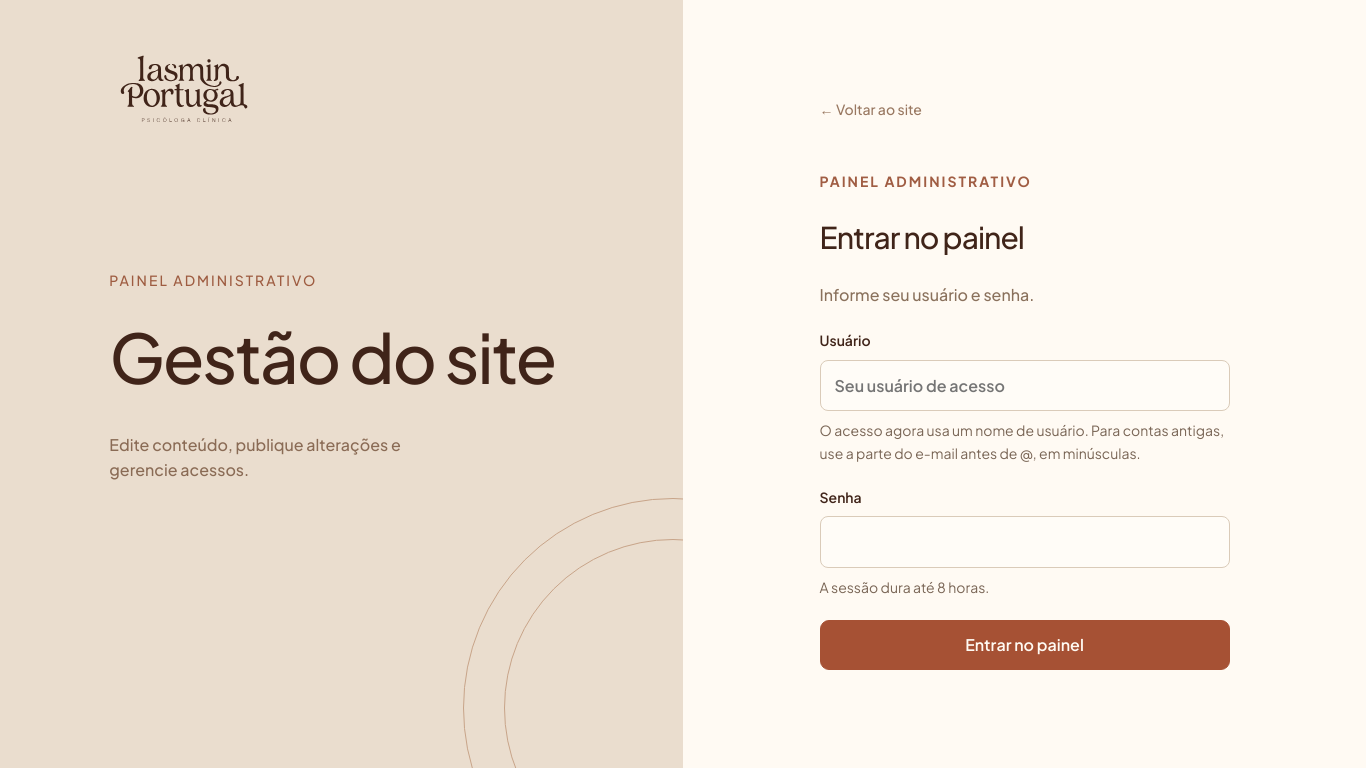
Test: restores the form and entered username after authentication fails
This screenshot has width=1366, height=768.
Type "admin" into the field labelled "Usuário" at (1024, 385), box [820,360,1230,411]
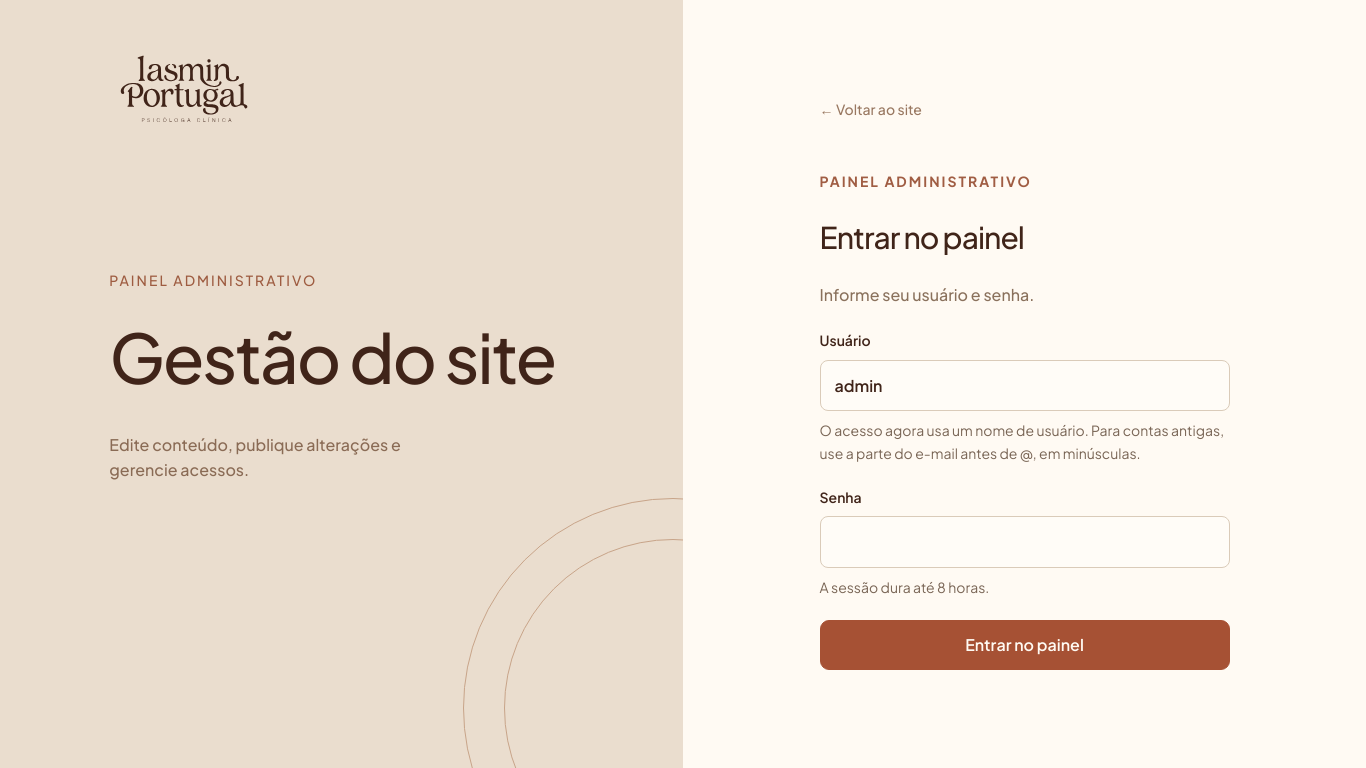
Type "password-test" into the password field labelled "Senha" at (1024, 542), box [820,516,1230,568]
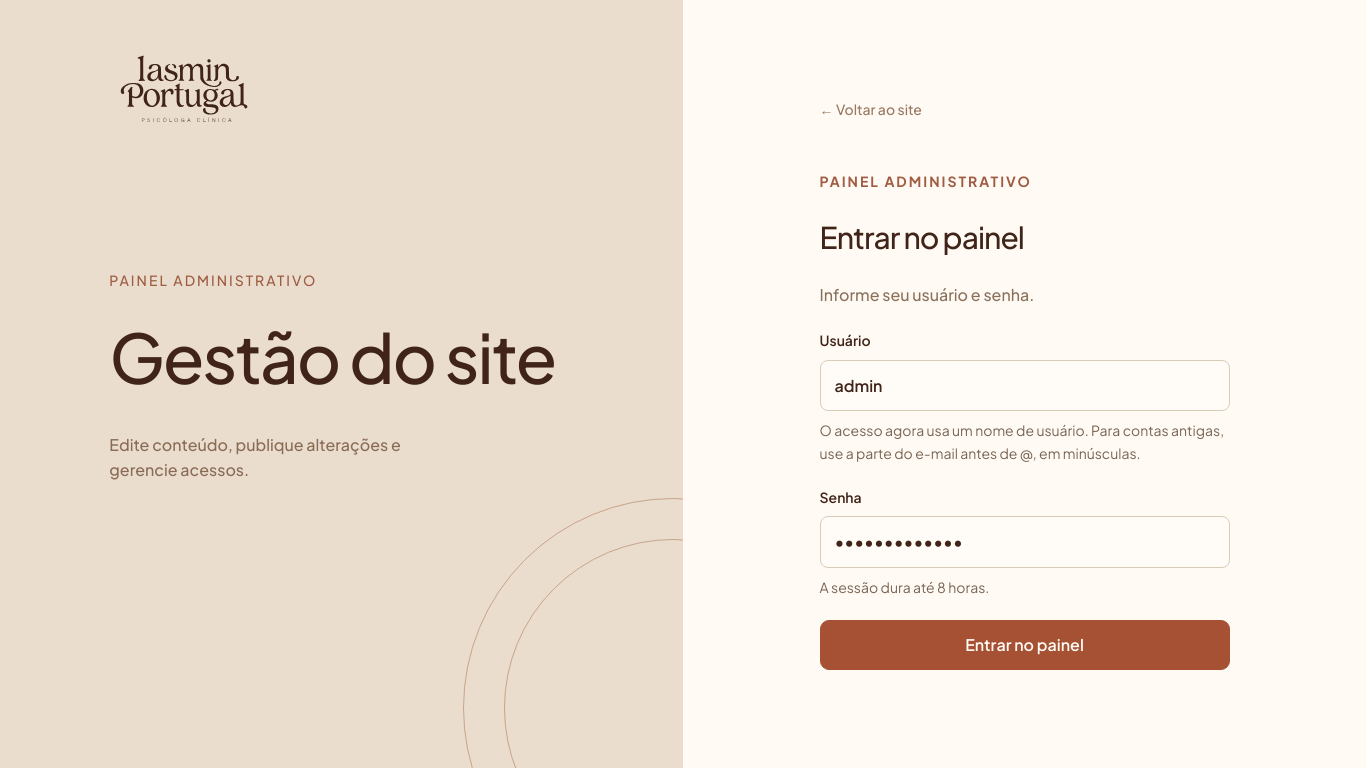
Submit the form named "Entrar no painel", box [820,329,1230,670]
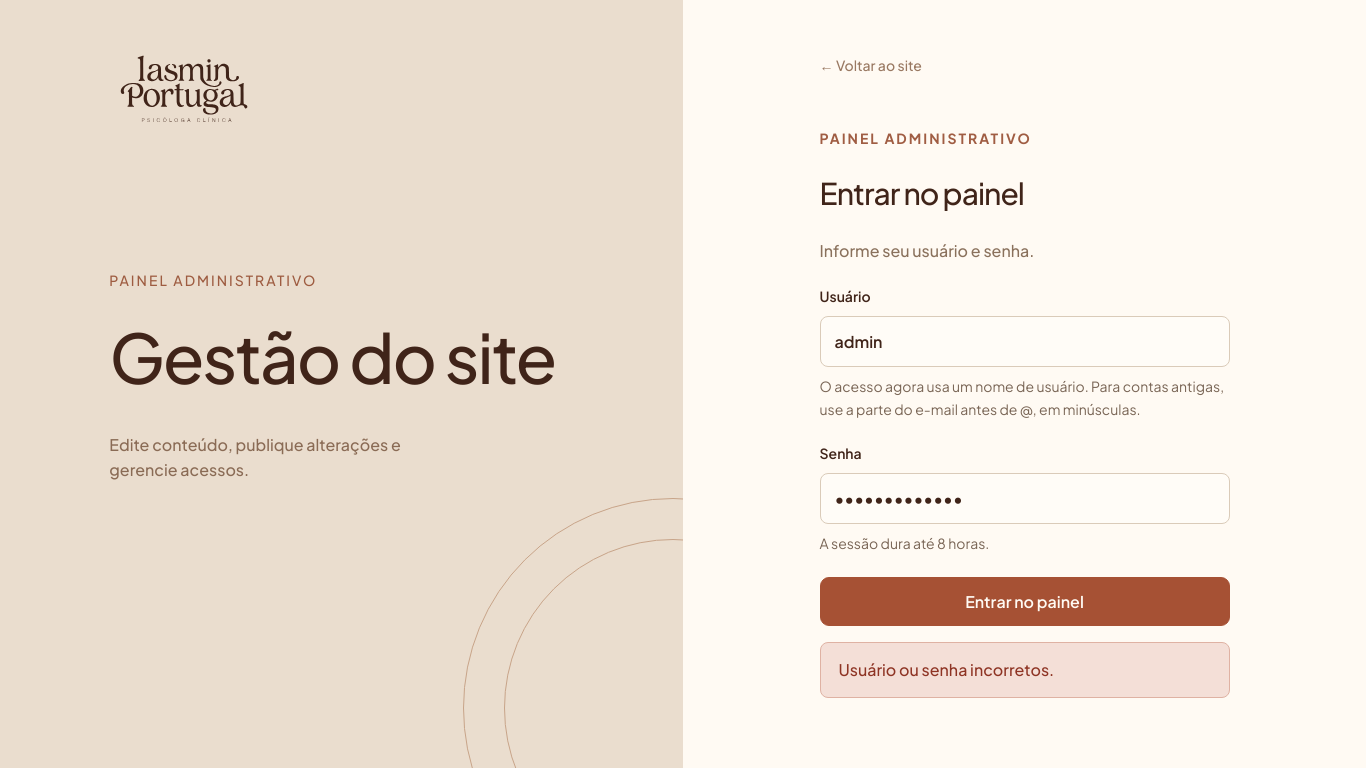
Expected: the button "Entrar no painel" is enabled, [820,576,1230,626]
Result: the message reads "Usuário ou senha incorretos." at [838,659,1054,680]
